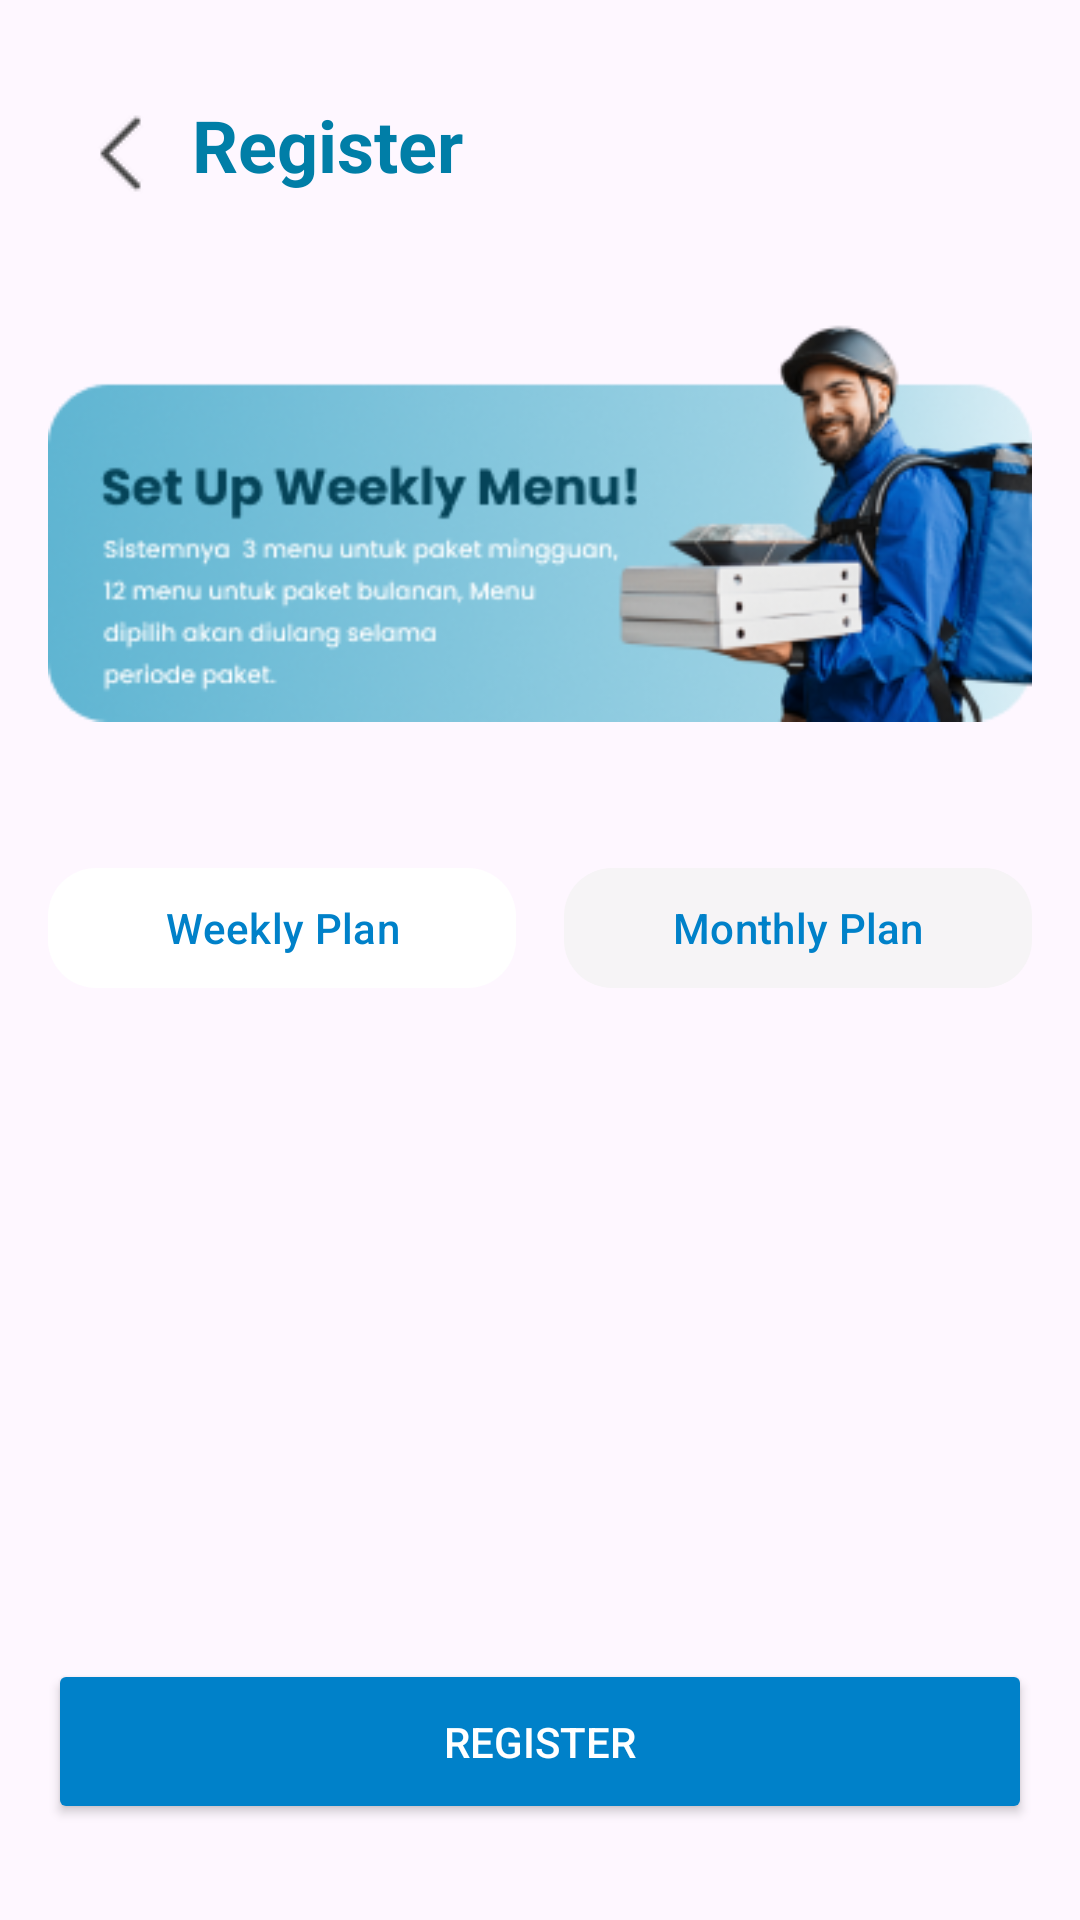

Named icons in this screenshot (1080px×1920px) and their centers, (x=x, y=y):
Back: (x=120, y=153)
